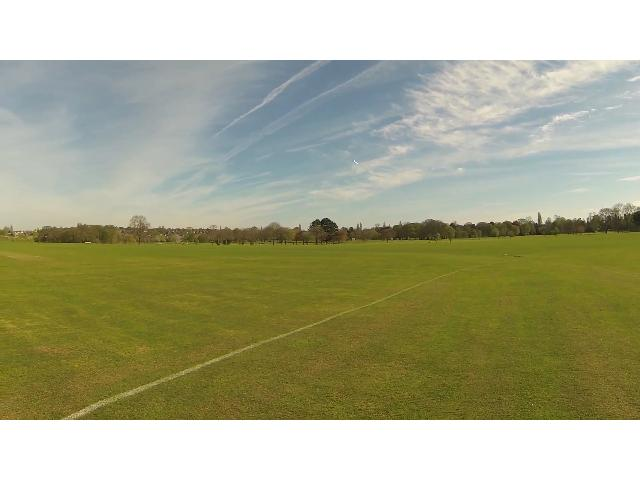Anti-Drone: (350, 158, 362, 166)
